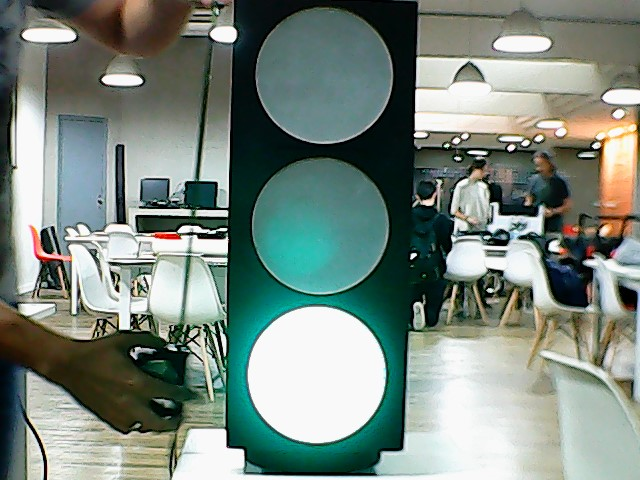verde: (231, 1, 418, 456)
